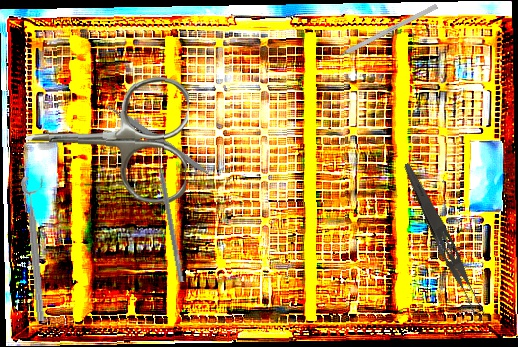Dressing Forceps: (396, 160, 489, 320)
Fixation Ring: (20, 175, 57, 322)
Hook Surgical: (323, 3, 439, 66)
Iris Scissors: (23, 72, 190, 206)
Scalpel Handle: (106, 101, 211, 177)
Spatula Surgical: (153, 150, 190, 283)
